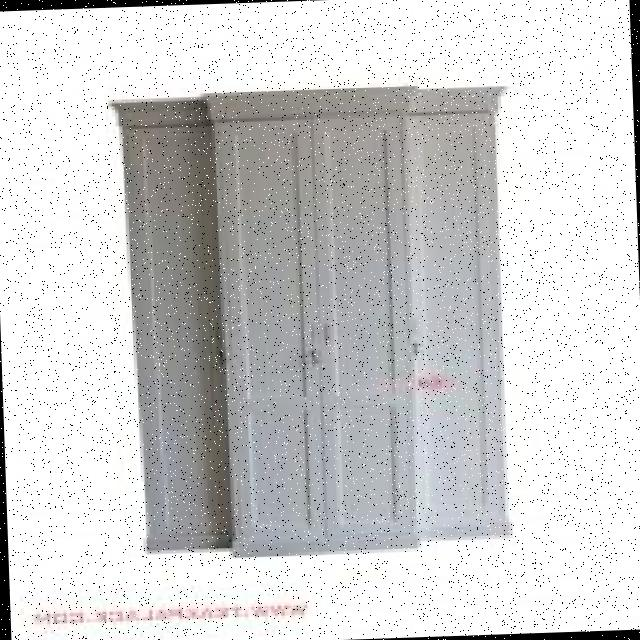Closet: (104, 75, 526, 572)
